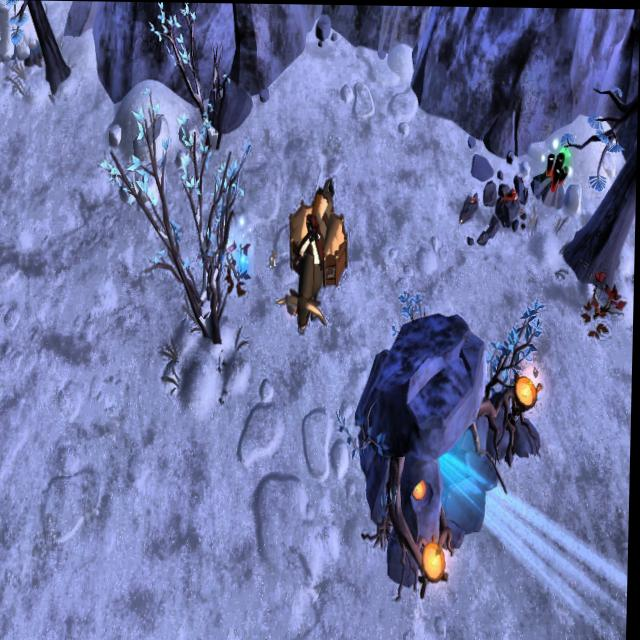ore_t5: (546, 145, 573, 189)
